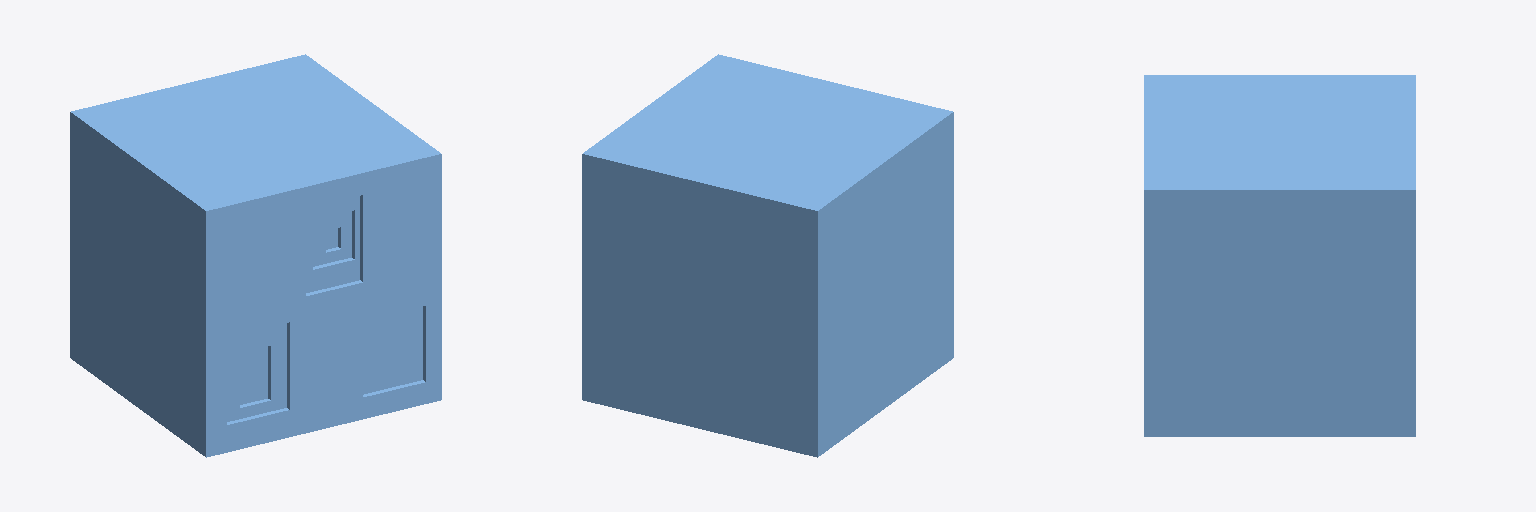
3 renders of one model, left to right at view 1: azimuth 30°, elevation 25°; view 2: azimuth 150°, elevation 25°; view 3: azimuth 270°, elevation 25°, orthographic.
Size of the model in its own units: 45 by 45 by 45.
1 materials, 1 textured.